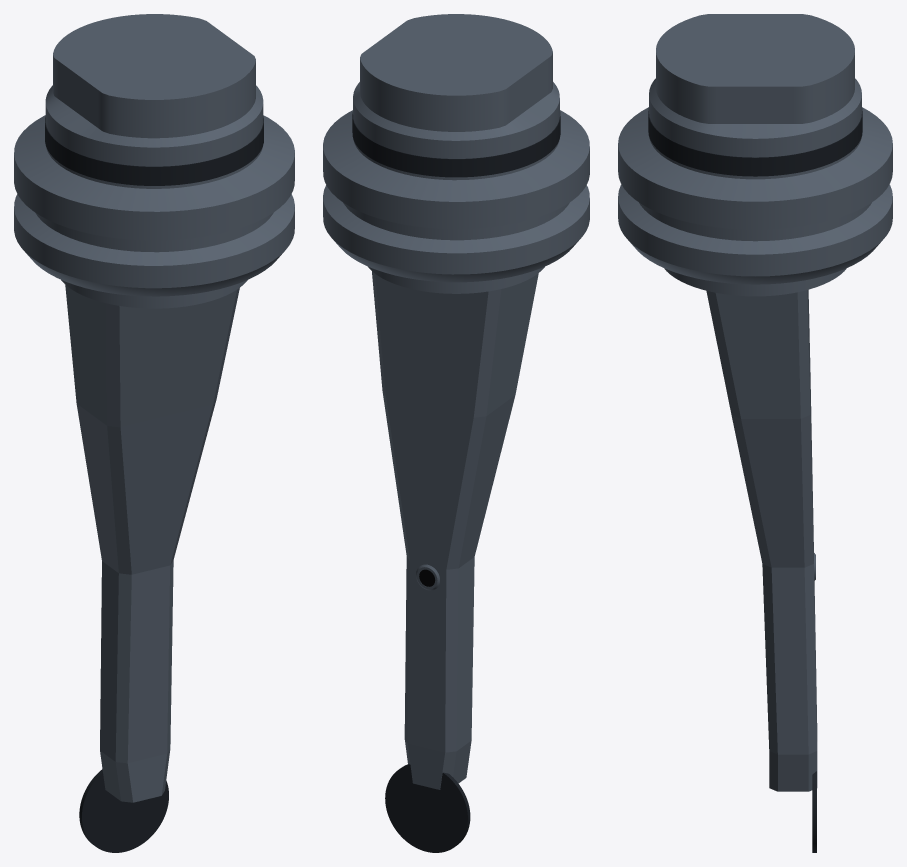
The model's file is wheel_straight_32.obj.
3 renders of one model, left to right at view 1: azimuth 30°, elevation 25°; view 2: azimuth 150°, elevation 25°; view 3: azimuth 270°, elevation 25°, orthographic. The views are drawn at different scales.
Parts seen in each view (by area): view 1: wheel_straight_32_stepped_coupling.002, wheel_straight_32_faceted_blade.002, wheel_straight_32_locking_collar.002, wheel_straight_32_seat.005; view 2: wheel_straight_32_stepped_coupling.002, wheel_straight_32_faceted_blade.002, wheel_straight_32_seat.005, wheel_straight_32_locking_collar.002; view 3: wheel_straight_32_stepped_coupling.002, wheel_straight_32_faceted_blade.002, wheel_straight_32_locking_collar.002.
Part boxes in pixels (x1=…): wheel_straight_32_stepped_coupling.002: x1=14, y1=14, x2=294, y2=308; wheel_straight_32_faceted_blade.002: x1=65, y1=285, x2=239, y2=802; wheel_straight_32_locking_collar.002: x1=45, y1=116, x2=263, y2=185; wheel_straight_32_seat.005: x1=79, y1=769, x2=168, y2=852; wheel_straight_32_stepped_coupling.002: x1=323, y1=14, x2=589, y2=293; wheel_straight_32_faceted_blade.002: x1=372, y1=271, x2=538, y2=789; wheel_straight_32_seat.005: x1=385, y1=764, x2=470, y2=852; wheel_straight_32_locking_collar.002: x1=352, y1=112, x2=560, y2=177; wheel_straight_32_stepped_coupling.002: x1=618, y1=14, x2=892, y2=296; wheel_straight_32_faceted_blade.002: x1=706, y1=289, x2=817, y2=791; wheel_straight_32_locking_collar.002: x1=648, y1=108, x2=862, y2=176.
Bounding box in the file's own units: 80 × 256 × 80.
